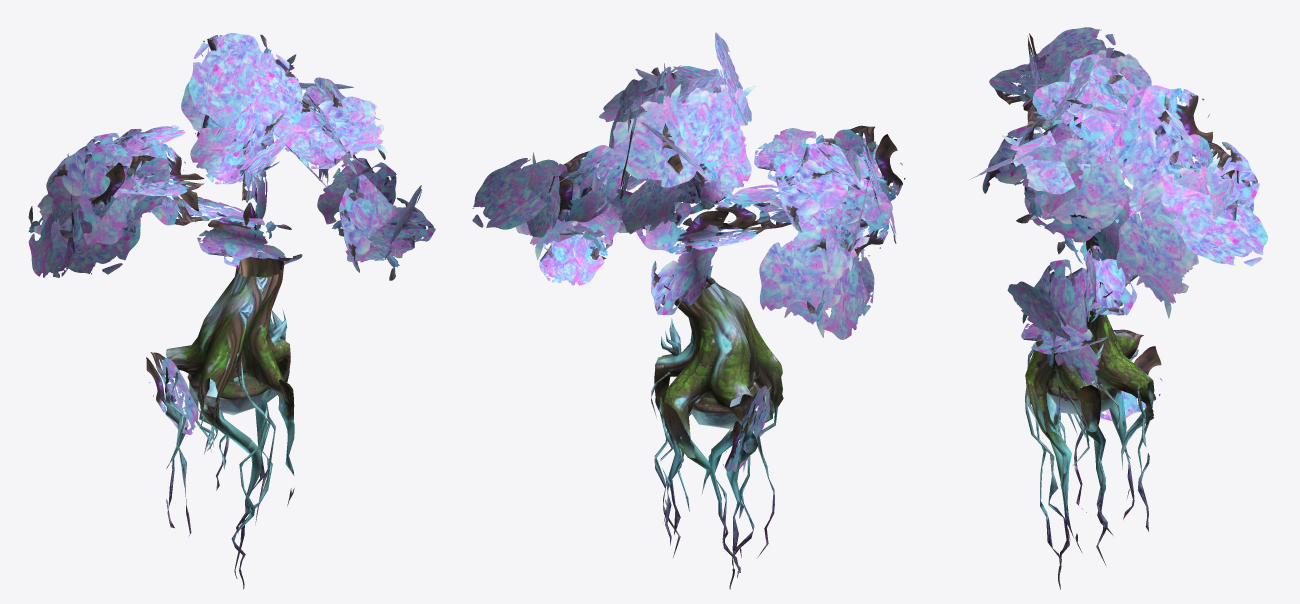
The model's file is Celestial_Blossom_Tre.fbx.
3 views of the same model, side by side, from view 1: azimuth 30°, elevation 25°; view 2: azimuth 150°, elevation 25°; view 3: azimuth 270°, elevation 25° (orthographic). The views are drawn at different scales.
Parts seen in each view (by area): view 1: Celestial_Blossom_Tre_LOD0; view 2: Celestial_Blossom_Tre_LOD0; view 3: Celestial_Blossom_Tre_LOD0.
Boxes of the visible parts, bbox=[...] form: Celestial_Blossom_Tre_LOD0: bbox=[28, 33, 435, 589]; Celestial_Blossom_Tre_LOD0: bbox=[472, 32, 905, 589]; Celestial_Blossom_Tre_LOD0: bbox=[969, 27, 1267, 589].
Size of what is drawn, in the model's own units: 1.49 by 2.04 by 1.07.
Materials: 2 (2 with a texture image).
